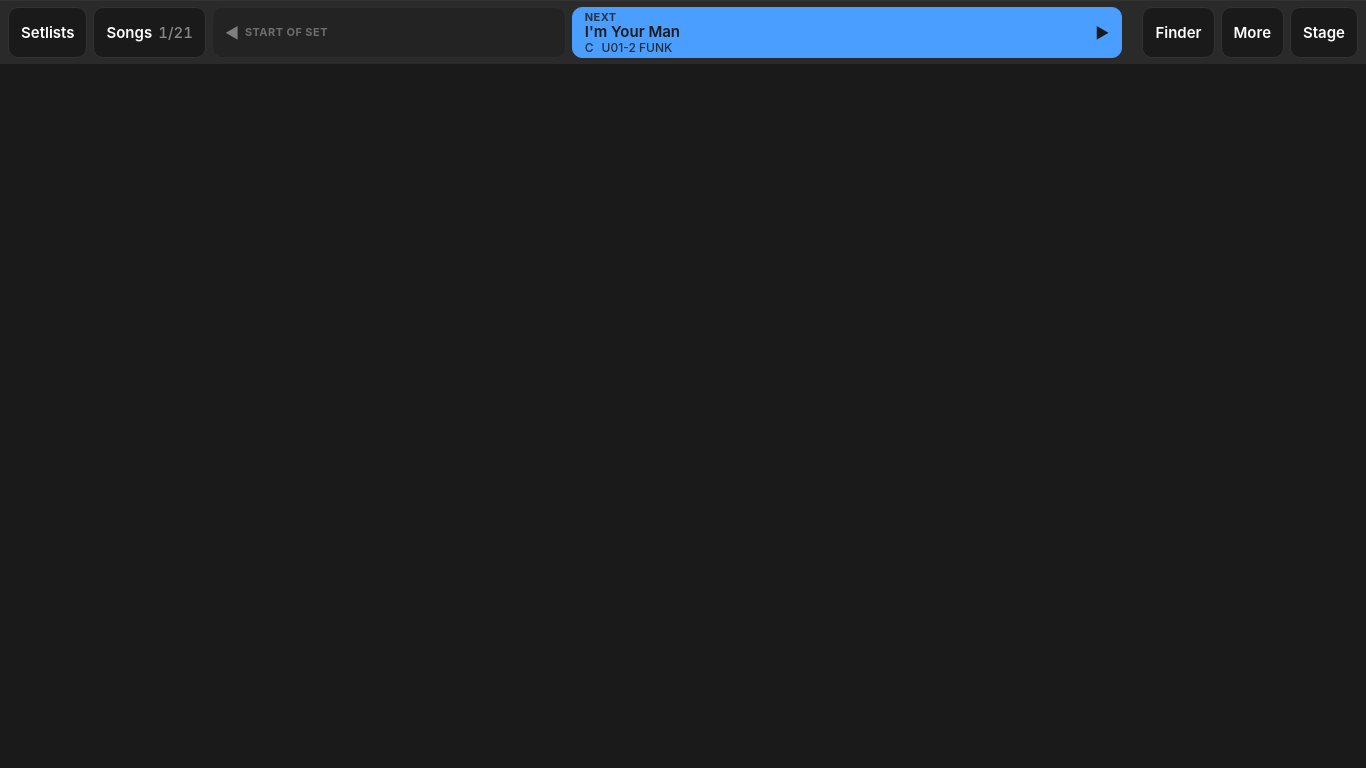
Scenario: the Songs sheet › lists every song with the count and the length of the set
Click the button with aria-label "Songs, ". click: (150,32)
box: [94, 7, 206, 58]
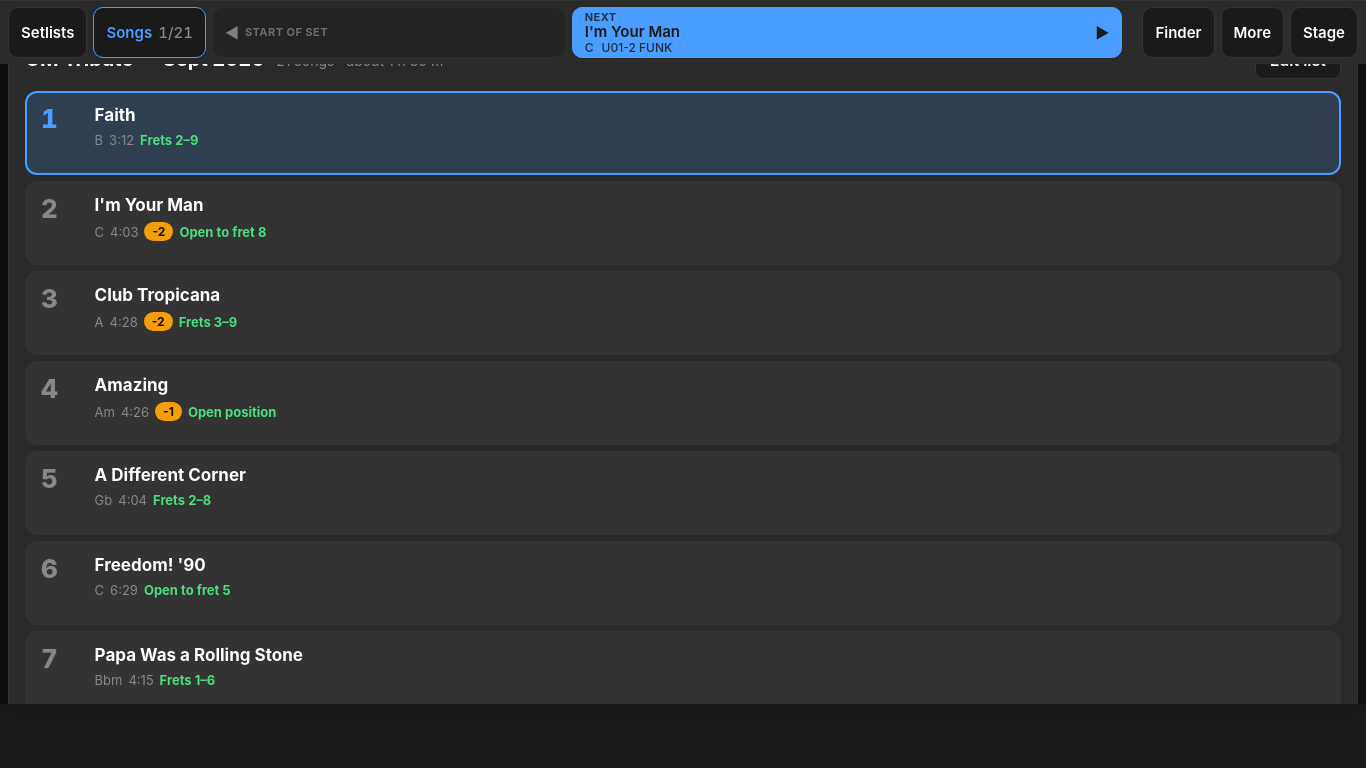
Check: the text "Faith" is shown, box [95, 105, 136, 125]
Check: the text "I'm Your Man" below "GM Tribute — Sept 2026" is shown, box [95, 195, 204, 215]
Check: the text "Club Tropicana" is shown, box [95, 285, 220, 305]
